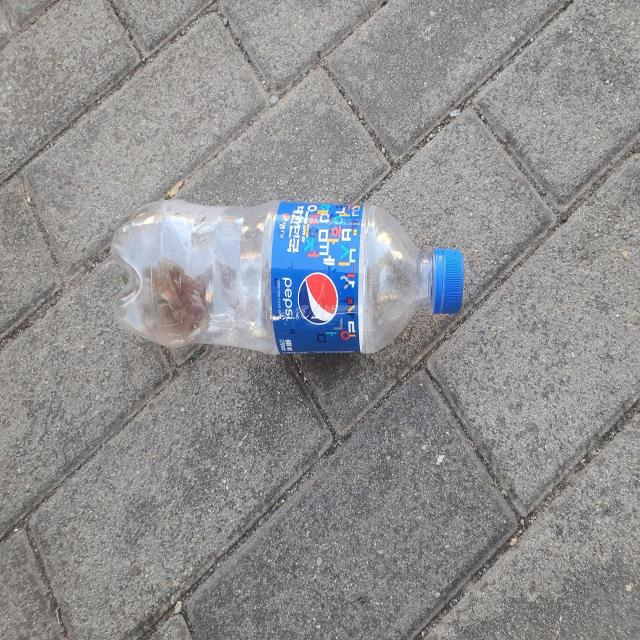plastic: (111, 199, 464, 354)
